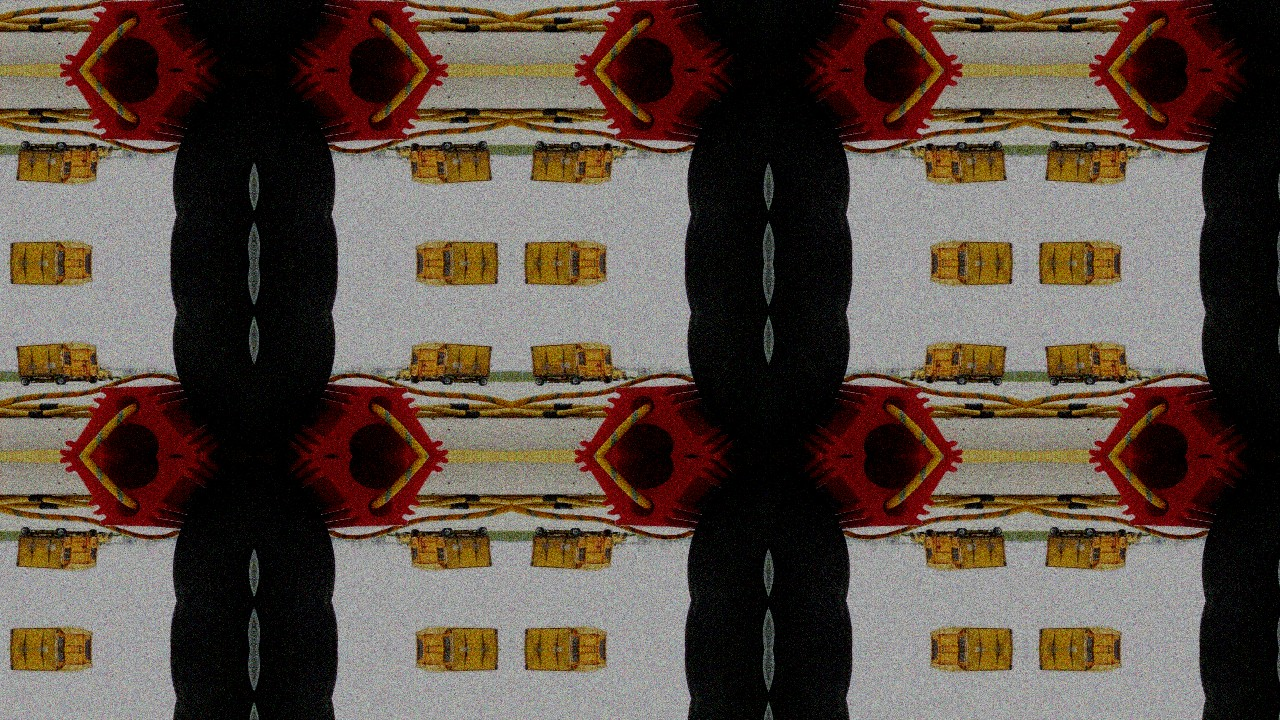chock: (46, 377, 230, 457), (277, 377, 461, 457), (561, 377, 745, 457), (792, 377, 976, 457), (1076, 377, 1260, 457), (46, 70, 230, 149), (277, 70, 461, 149), (561, 70, 745, 149), (792, 70, 976, 149), (1076, 70, 1260, 149), (46, 457, 230, 536), (277, 457, 461, 536), (561, 457, 745, 536), (792, 457, 976, 536), (1076, 457, 1260, 536), (46, 0, 230, 70), (277, 0, 461, 70), (561, 0, 745, 70), (792, 0, 976, 70), (1076, 0, 1260, 70)
wheel: (169, 306, 254, 457), (254, 306, 339, 457), (684, 306, 769, 457), (769, 306, 854, 457), (169, 70, 254, 220), (254, 70, 339, 220), (684, 70, 769, 220), (769, 70, 854, 220), (169, 457, 254, 607), (254, 457, 339, 607), (684, 457, 769, 607), (769, 457, 854, 607), (1199, 306, 1280, 457), (1199, 70, 1280, 220), (1199, 457, 1280, 607), (169, 0, 254, 70), (254, 0, 339, 70), (684, 0, 769, 70), (769, 0, 854, 70), (1199, 0, 1280, 70), (167, 263, 254, 316), (682, 263, 769, 316), (167, 597, 254, 650), (682, 597, 769, 650), (254, 263, 340, 316), (769, 263, 855, 316), (254, 597, 340, 650), (769, 597, 855, 650), (167, 211, 254, 263), (682, 211, 769, 263), (167, 650, 254, 702), (682, 650, 769, 702), (254, 211, 340, 263), (769, 211, 855, 263), (254, 650, 340, 702), (769, 650, 855, 702), (1197, 263, 1280, 316), (1197, 597, 1280, 650), (1197, 211, 1280, 263), (1197, 650, 1280, 702), (169, 693, 254, 720), (254, 693, 339, 720), (684, 693, 769, 720), (769, 693, 854, 720), (1199, 693, 1280, 720), (55, 376, 67, 385), (570, 376, 582, 385), (1085, 376, 1097, 385), (55, 528, 67, 537), (570, 528, 582, 537), (1085, 528, 1097, 537), (441, 376, 452, 385), (956, 376, 967, 385), (441, 528, 452, 537), (956, 528, 967, 537), (55, 142, 67, 150), (570, 142, 582, 150), (1085, 142, 1097, 150), (20, 377, 30, 386), (477, 377, 487, 386), (535, 377, 545, 386), (992, 377, 1002, 386), (1050, 377, 1060, 386), (20, 527, 30, 536), (477, 527, 487, 536), (535, 527, 545, 536), (992, 527, 1002, 536), (1050, 527, 1060, 536), (441, 142, 452, 150), (956, 142, 967, 150), (20, 141, 30, 149), (477, 141, 487, 149), (535, 141, 545, 149), (992, 141, 1002, 149), (1050, 141, 1060, 149), (88, 143, 97, 151), (410, 143, 419, 151), (603, 143, 612, 151), (925, 143, 934, 151), (1118, 143, 1127, 151), (88, 375, 97, 383), (410, 375, 419, 383), (603, 375, 612, 383), (925, 375, 934, 383), (1118, 375, 1127, 383), (88, 530, 97, 538), (410, 530, 419, 538), (603, 530, 612, 538), (925, 530, 934, 538), (1118, 530, 1127, 538), (99, 145, 107, 153), (614, 145, 622, 153), (1129, 145, 1137, 153), (401, 145, 408, 153), (916, 145, 923, 153), (99, 374, 107, 381), (614, 374, 622, 381), (1129, 374, 1137, 381), (99, 532, 107, 539), (614, 532, 622, 539), (1129, 532, 1137, 539), (401, 374, 408, 381), (916, 374, 923, 381), (401, 532, 408, 539), (916, 532, 923, 539)
